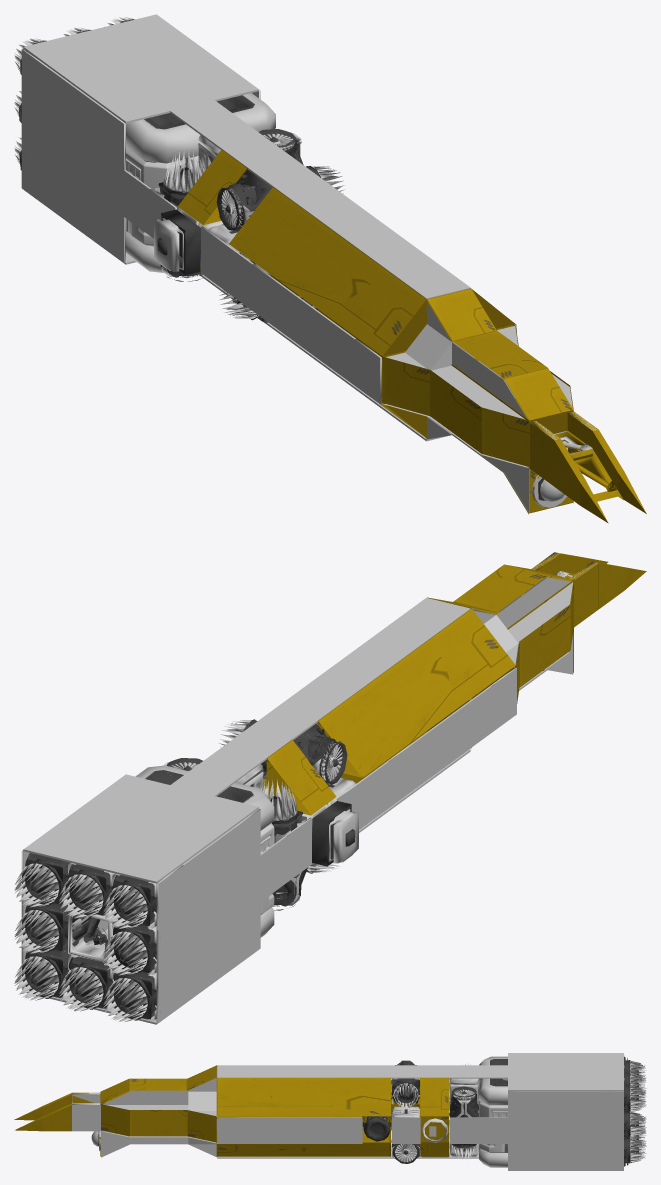
Rendered from missile_10_body.fbx.
3 views of the same model, one above another, from view 1: azimuth 30°, elevation 25°; view 2: azimuth 150°, elevation 25°; view 3: azimuth 270°, elevation 25° (orthographic). The views are drawn at different scales.
Visible parts, largest first — view 1: Object_28, Object_2, Object_37, Object_36, Object_6, Object_5, Object_34, Object_39, Object_14.001, Object_35, Object_14, Object_15 (+1 smaller); view 2: Object_28, Object_2, Object_5, Object_6, Object_14.001, Object_37, Object_14, Object_36, Object_39, Object_34; view 3: Object_28, Object_2, Object_37, Object_5, Object_34, Object_36, Object_14.001, Object_6, Object_14, Object_39.001, Object_35, Object_15.
Boxes of the visible parts, left/top/right/bottom form: Object_28: left=21, top=14, right=569, bottom=472; Object_2: left=177, top=149, right=573, bottom=513; Object_37: left=126, top=93, right=315, bottom=308; Object_36: left=554, top=429, right=646, bottom=523; Object_6: left=20, top=29, right=320, bottom=281; Object_5: left=19, top=19, right=545, bottom=500; Object_34: left=383, top=302, right=573, bottom=514; Object_39: left=529, top=411, right=598, bottom=507; Object_14.001: left=14, top=17, right=340, bottom=318; Object_35: left=126, top=147, right=198, bottom=246; Object_14: left=14, top=18, right=344, bottom=315; Object_15: left=179, top=133, right=294, bottom=276; Object_28: left=21, top=577, right=569, bottom=1024; Object_2: left=263, top=564, right=573, bottom=815; Object_5: left=22, top=728, right=355, bottom=1020; Object_6: left=65, top=719, right=347, bottom=999; Object_14.001: left=14, top=720, right=335, bottom=1021; Object_37: left=68, top=758, right=358, bottom=1021; Object_14: left=14, top=723, right=342, bottom=1020; Object_36: left=557, top=552, right=646, bottom=608; Object_39: left=531, top=552, right=598, bottom=627; Object_34: left=470, top=577, right=573, bottom=749; Object_28: left=130, top=1053, right=623, bottom=1170; Object_2: left=100, top=1065, right=448, bottom=1156; Object_37: left=391, top=1055, right=624, bottom=1167; Object_5: left=98, top=1060, right=640, bottom=1166; Object_34: left=101, top=1066, right=217, bottom=1157; Object_36: left=14, top=1093, right=71, bottom=1131; Object_14.001: left=393, top=1060, right=642, bottom=1163; Object_6: left=391, top=1057, right=640, bottom=1113; Object_14: left=396, top=1063, right=646, bottom=1160; Object_39.001: left=72, top=1092, right=100, bottom=1151; Object_35: left=479, top=1078, right=507, bottom=1152; Object_15: left=395, top=1064, right=475, bottom=1162.
Bounding box in the file's own units: 47.75 × 39.22 × 277.
